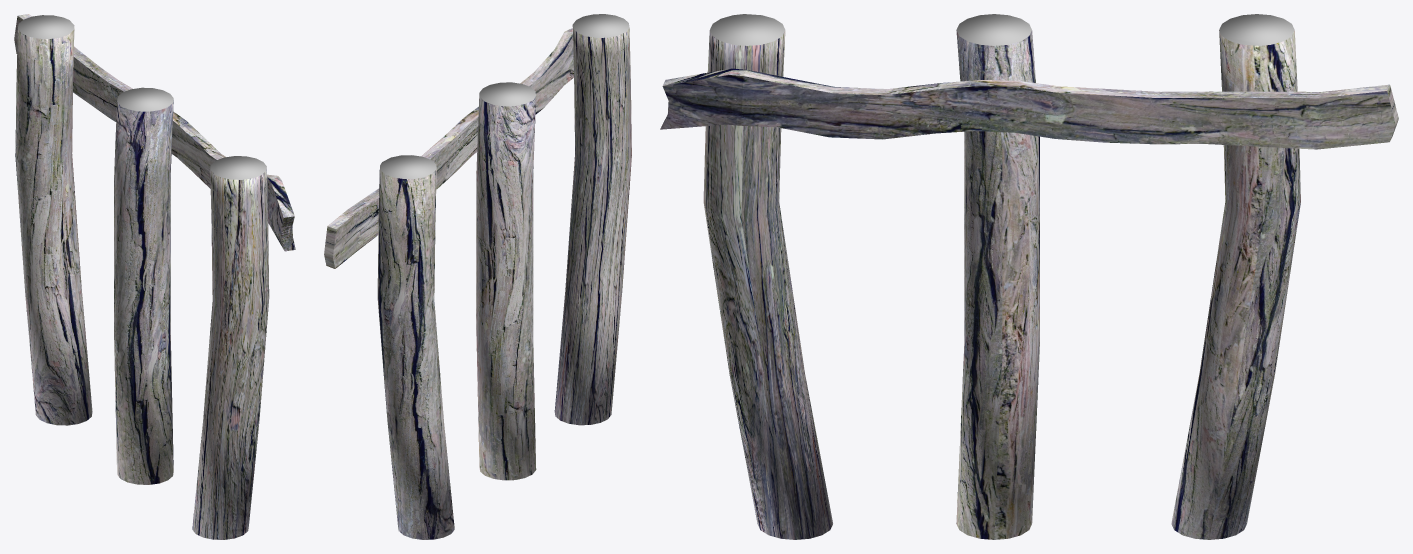
The model's file is çit.fbx.
The picture shows the model from 3 angles, left to right: view 1: azimuth 30°, elevation 25°; view 2: azimuth 150°, elevation 25°; view 3: azimuth 270°, elevation 25°; orthographic projection. The views are drawn at different scales.
Visible parts, largest first — view 1: Circle; view 2: Circle; view 3: Circle.
Boxes of the visible parts, x1=… form: Circle: x1=14, y1=14, x2=295, y2=539; Circle: x1=324, y1=14, x2=631, y2=539; Circle: x1=660, y1=14, x2=1398, y2=539.
Bounding box in the file's own units: 33.01 × 187 × 253.
